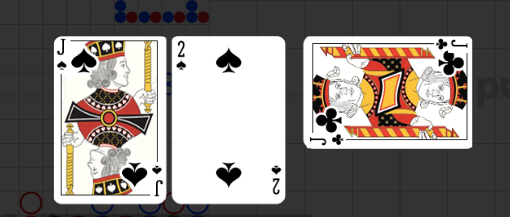2S: (175, 40, 188, 73)
JC: (434, 38, 469, 52)
JS: (55, 38, 99, 85), (122, 159, 166, 205)
